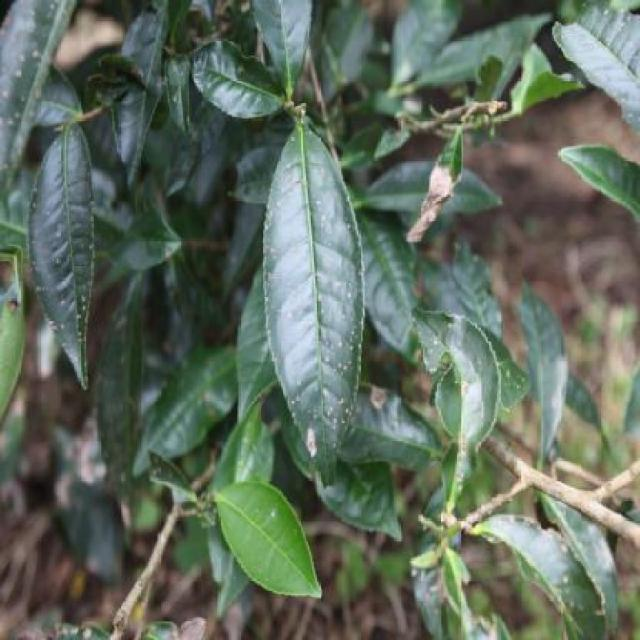Leaf rust of tea: (266, 121, 365, 537), (31, 112, 89, 406), (405, 300, 492, 480)
